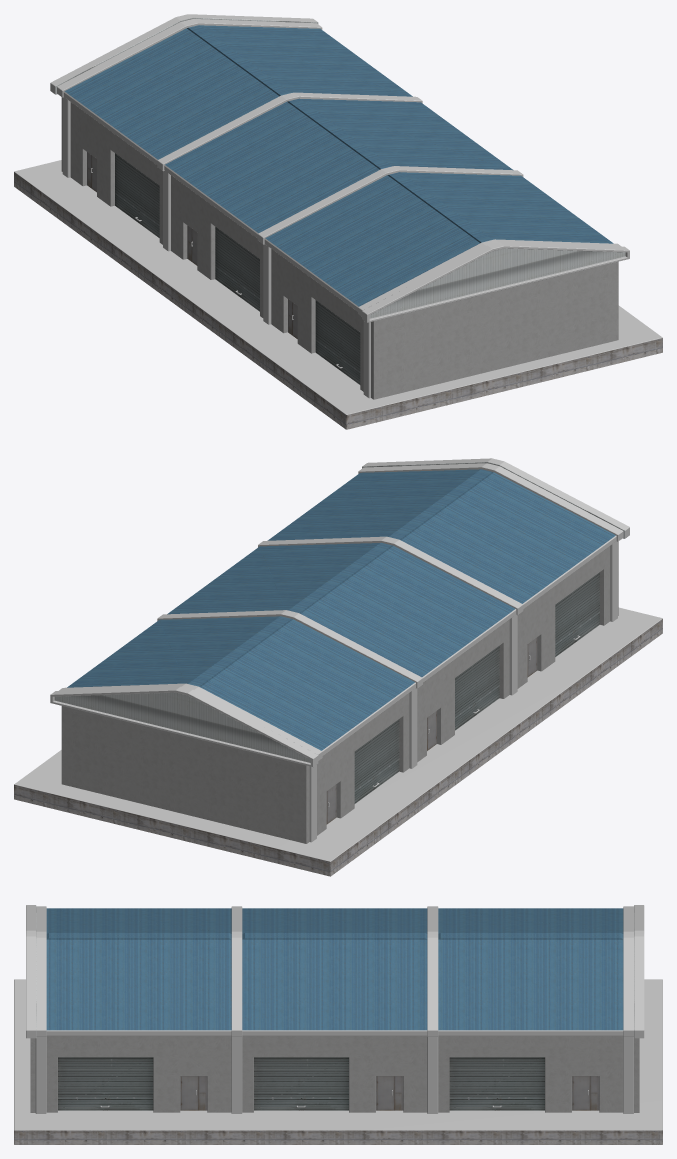
File: WareHouse02.fbx
The picture shows the model from 3 angles, top to bottom: view 1: azimuth 30°, elevation 25°; view 2: azimuth 150°, elevation 25°; view 3: azimuth 270°, elevation 25°; orthographic projection. The views are drawn at different scales.
Parts seen in each view (by area): view 1: WareHouse02; view 2: WareHouse02; view 3: WareHouse02.
Boxes of the visible parts, x1,y1,x2,y2 form: WareHouse02: [14, 14, 662, 429]; WareHouse02: [14, 458, 662, 876]; WareHouse02: [14, 905, 662, 1144].
Size of the model in its own units: 22 by 9.24 by 40.
